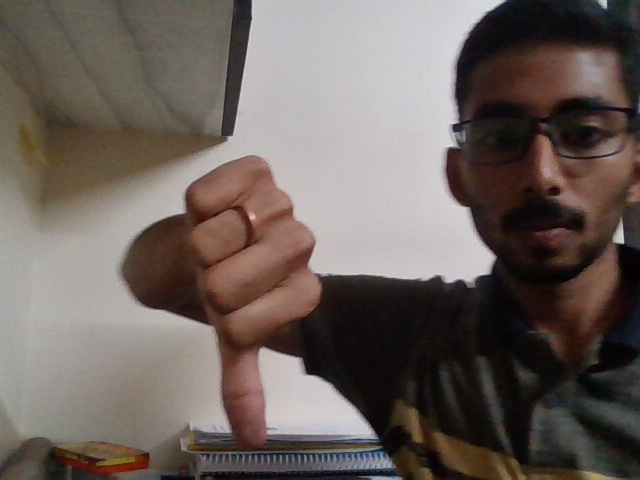No: (161, 141, 342, 462)
